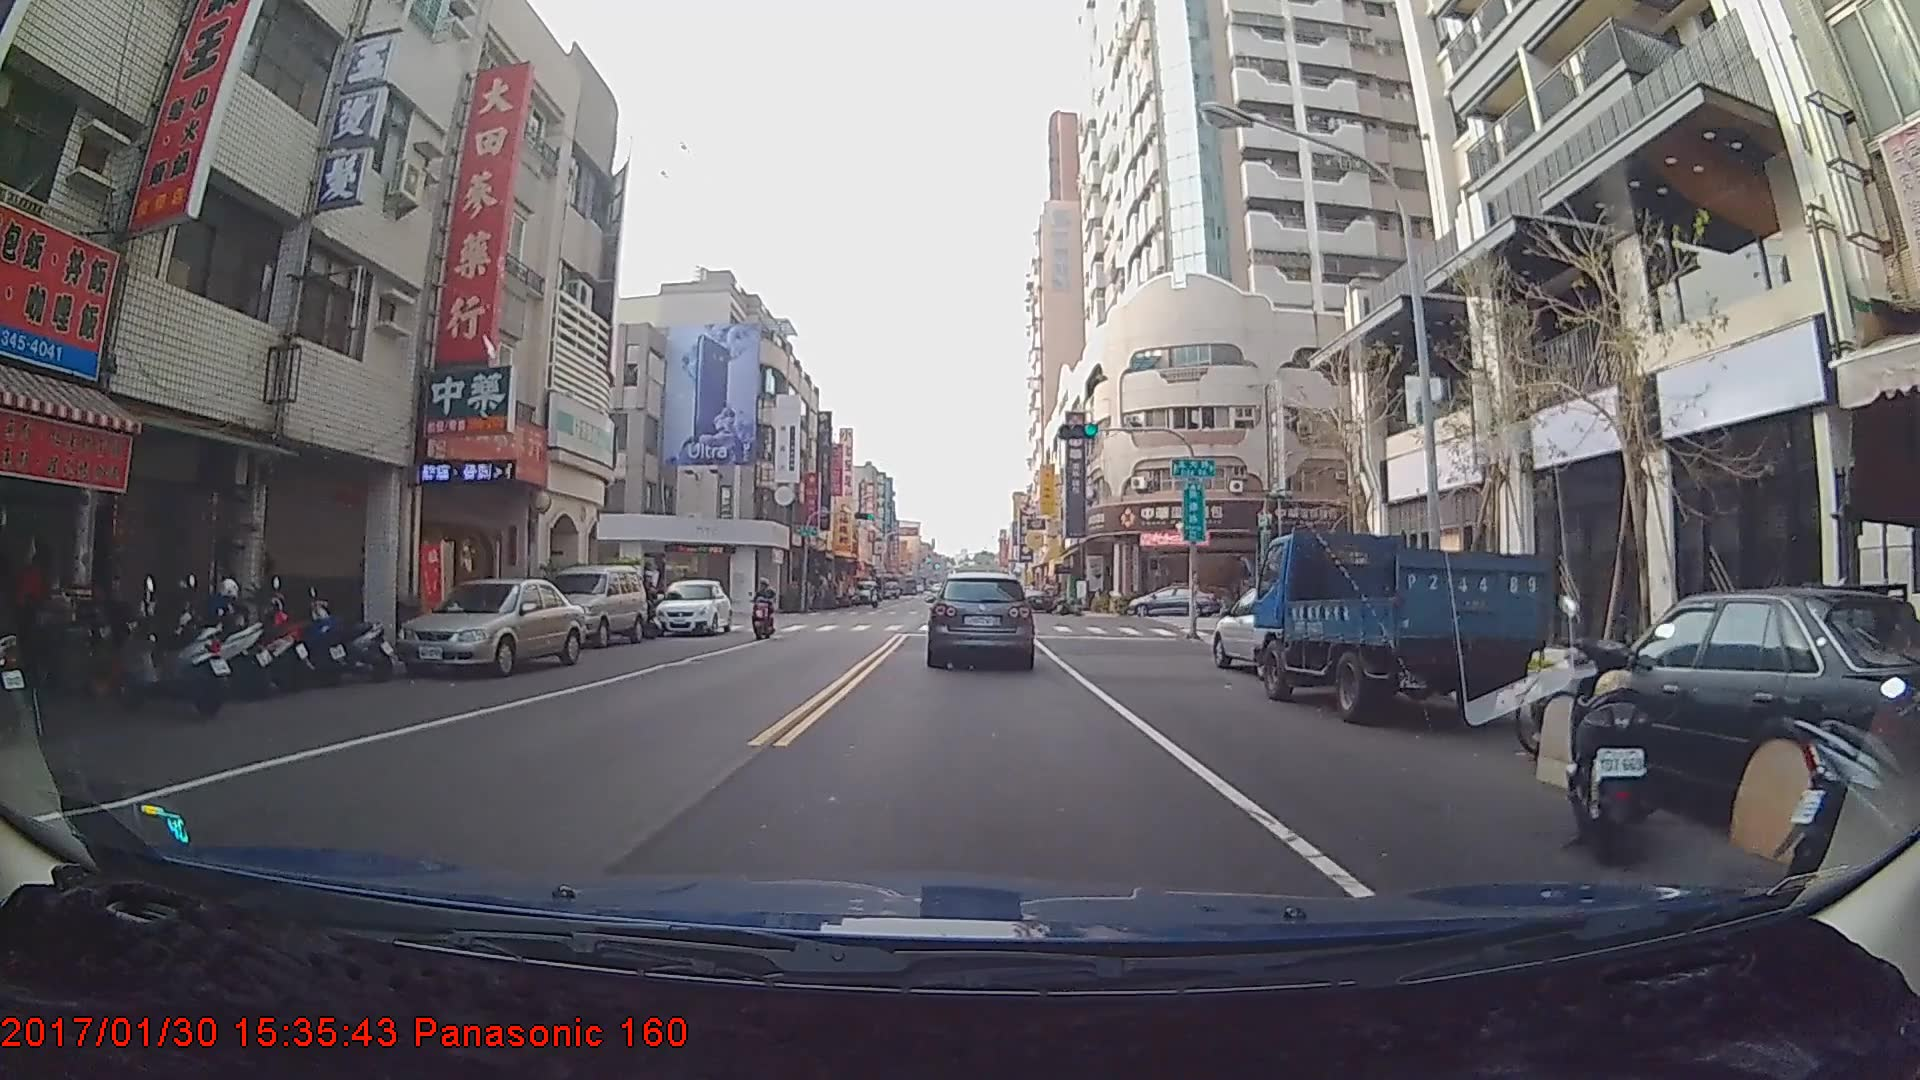rider: (752, 579, 780, 641)
vehicle: (1251, 534, 1546, 724), (390, 573, 586, 675), (1209, 580, 1350, 678), (530, 560, 647, 649), (929, 571, 1033, 669), (654, 577, 731, 635), (1125, 582, 1212, 615), (1021, 584, 1052, 611), (853, 577, 877, 603)
